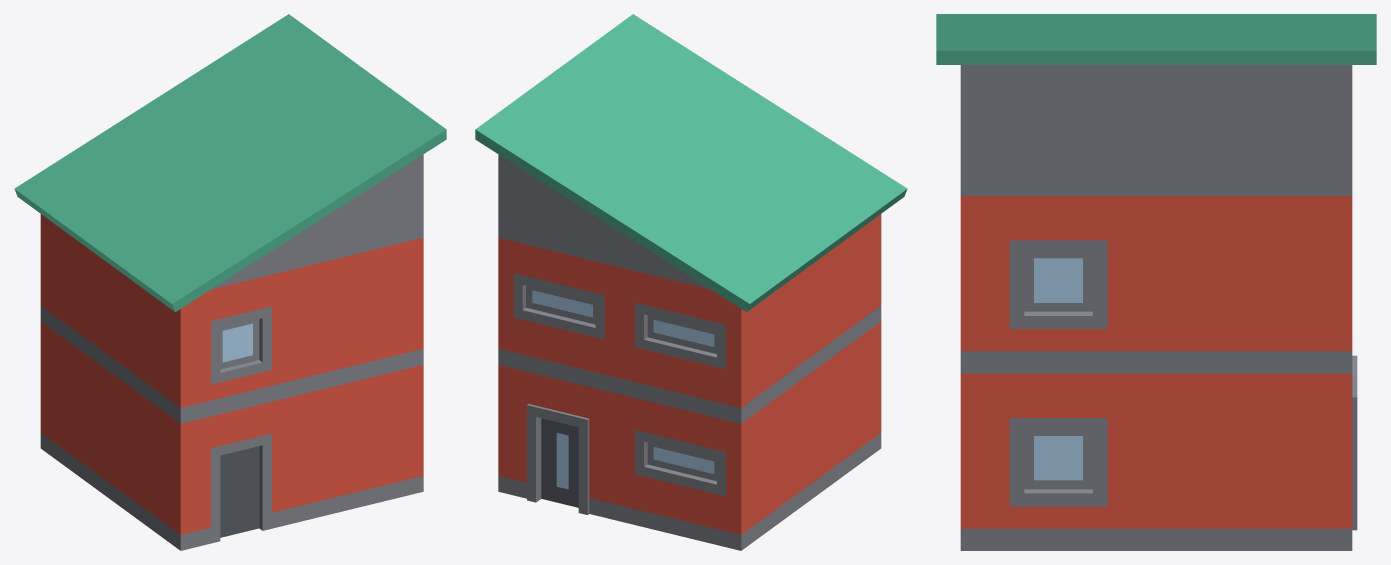
Rendered from house_type15.dae.
3 renders of one model, left to right at view 1: azimuth 30°, elevation 25°; view 2: azimuth 150°, elevation 25°; view 3: azimuth 270°, elevation 25°, orthographic. The views are drawn at different scales.
Visible parts, largest first — view 1: house_type15; view 2: house_type15; view 3: house_type15.
Boxes of the visible parts, x1,y1,x2,y2 form: house_type15: (14,14,446,550); house_type15: (475,14,907,550); house_type15: (936,14,1376,550).
Size of the model in its own units: 0.9042 by 1.15 by 0.9.
